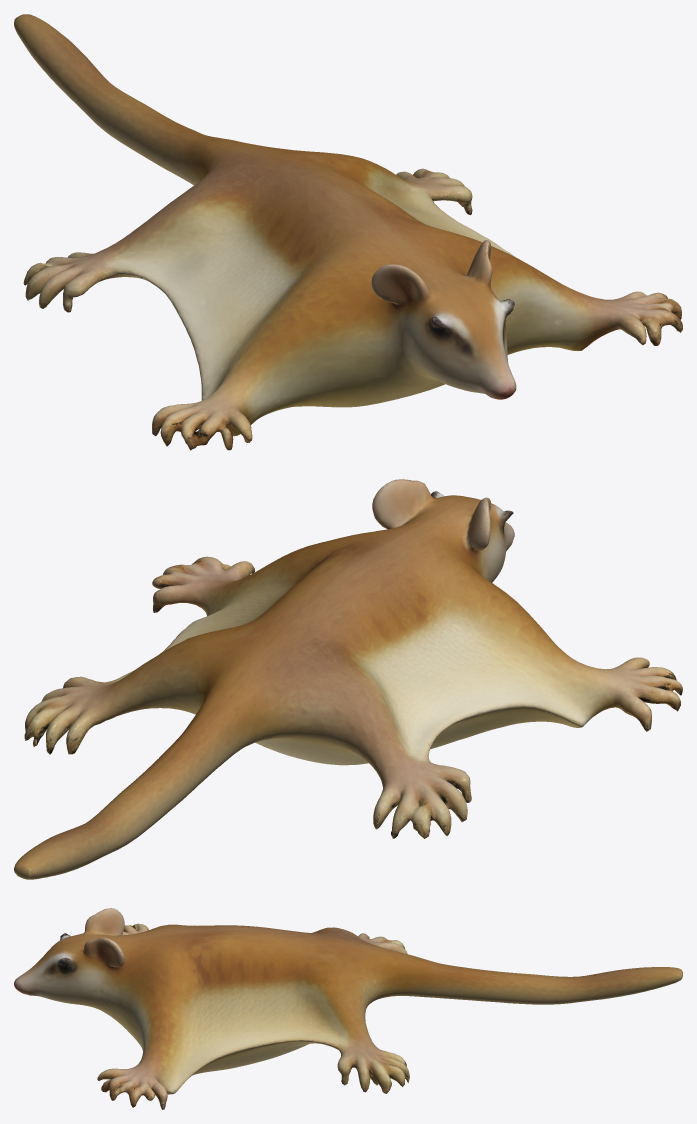
The picture shows the model from 3 angles, top to bottom: view 1: azimuth 30°, elevation 25°; view 2: azimuth 150°, elevation 25°; view 3: azimuth 270°, elevation 25°; orthographic projection. The views are drawn at different scales.
Parts seen in each view (by area): view 1: world; view 2: world; view 3: world.
Boxes of the visible parts, x1=… form: world: x1=14, y1=14, x2=682, y2=450; world: x1=14, y1=479, x2=682, y2=879; world: x1=14, y1=908, x2=682, y2=1109.
Bounding box in the file's own units: 0.1624 × 0.057 × 0.265.
1 material, 1 textured.
